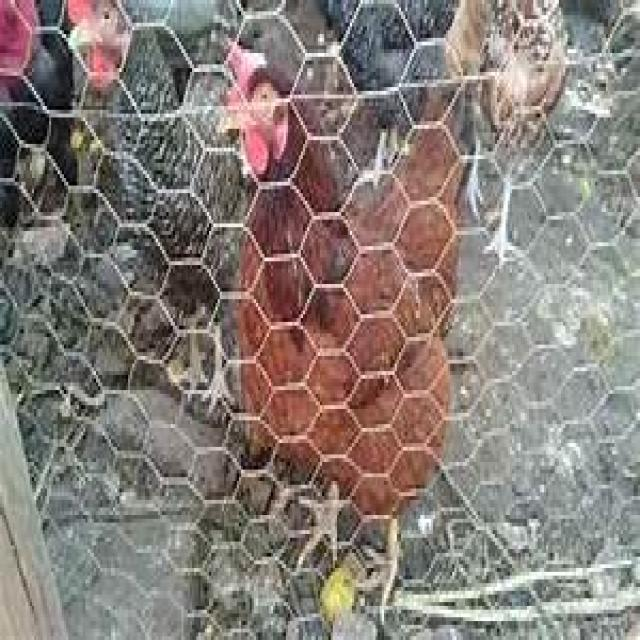chicken: (197, 44, 482, 593)
